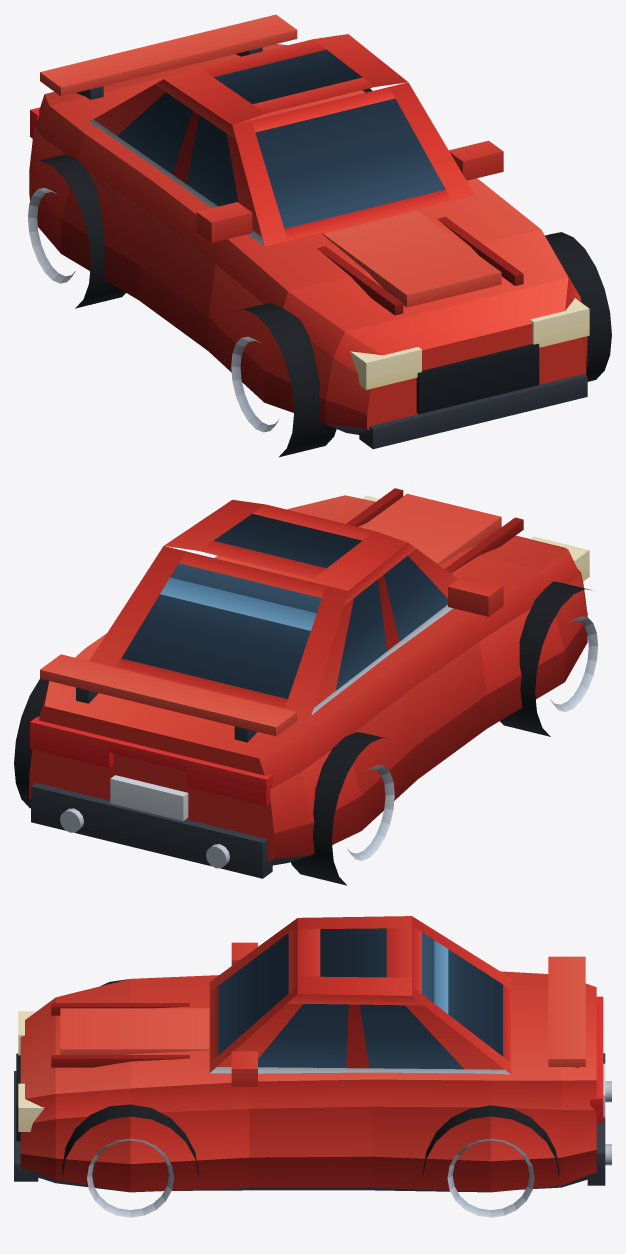
The model's file is sedan-sports.glb.
3 views of the same model, one above another, from view 1: azimuth 30°, elevation 25°; view 2: azimuth 150°, elevation 25°; view 3: azimuth 270°, elevation 25° (orthographic). The views are drawn at different scales.
Visible parts, largest first — view 1: body, wheel-set; view 2: body, wheel-set; view 3: body, wheel-set.
Part boxes in pixels (x1,y1,x2,y2): body: (29, 14, 589, 449); wheel-set: (28, 88, 611, 457); body: (29, 488, 589, 878); wheel-set: (14, 581, 597, 885); body: (14, 916, 611, 1192); wheel-set: (62, 979, 559, 1217).
Bounding box in the file's own units: 1.49 × 1.1 × 2.72.
1 material, 1 textured.
